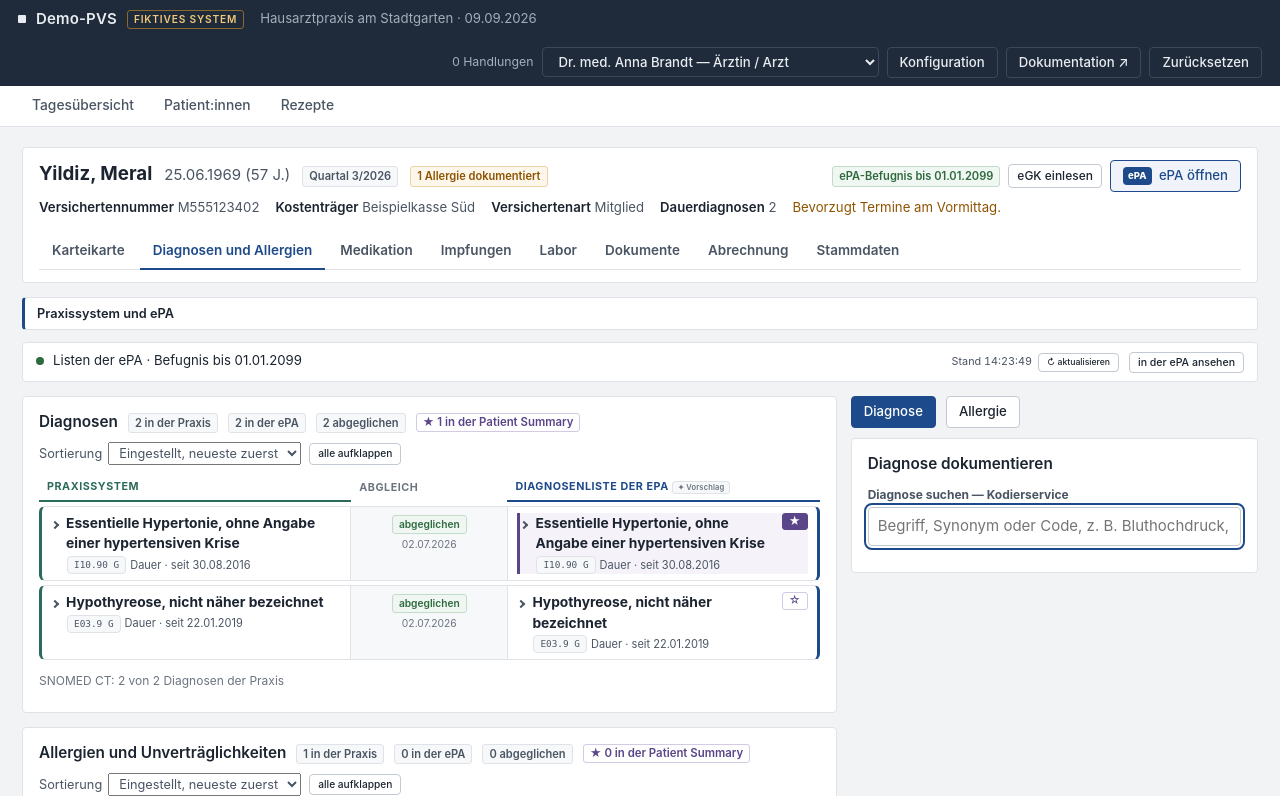
Scenario: Relevanz für die Patient Summary › markiert einen Eintrag der Liste, ohne ihn aus der Liste zu nehmen
Expected: the text "★ 1 in der Patient Summary" is shown, [416,413,580,432]
Expected: the number of elements with class "split-karte" is 1, [517,512,808,574]
What coordinates should you click on to do the following:
click the button named "Patient Summary"
I would click on:
 (795, 601)
Its box is [782,592,808,610].
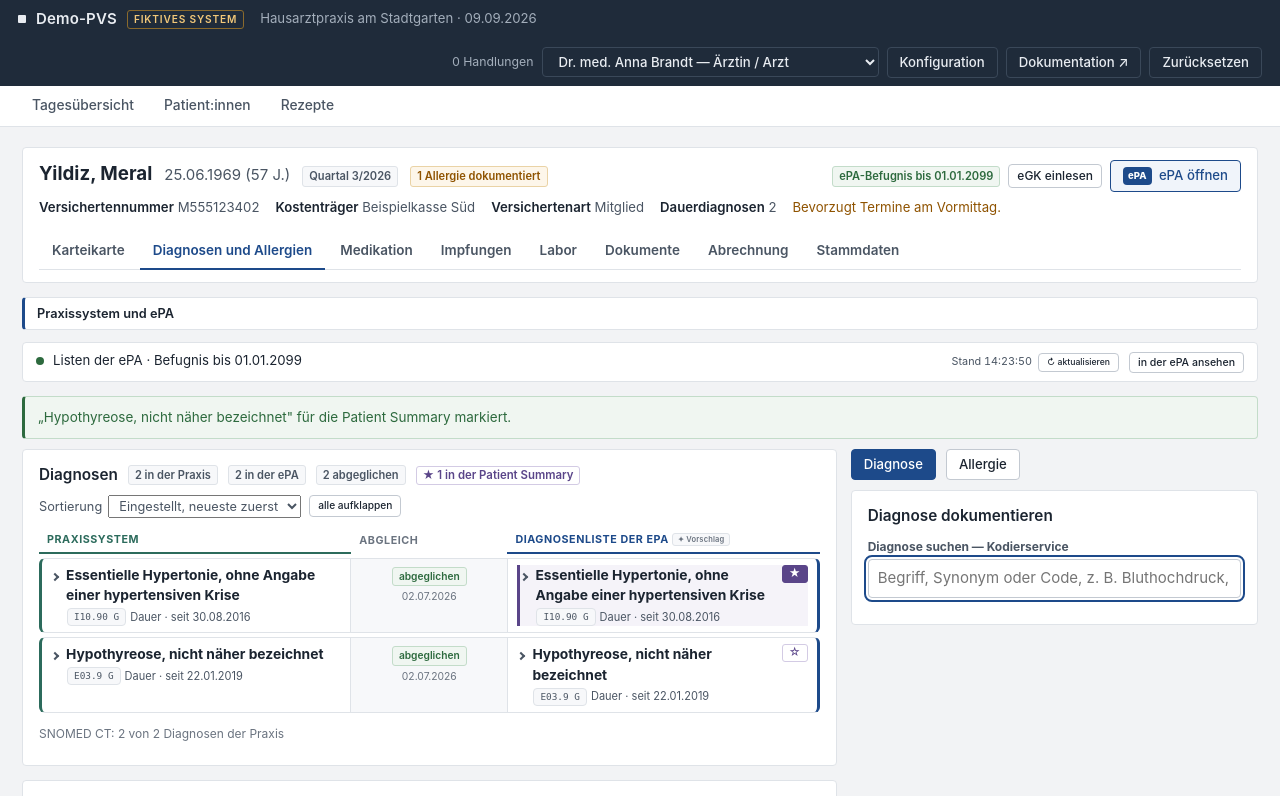
Expected: the text "„Hypothyreose, nicht näher bezeichnet\" für die Patient Summary markiert." is shown, [22,396,1258,439]
